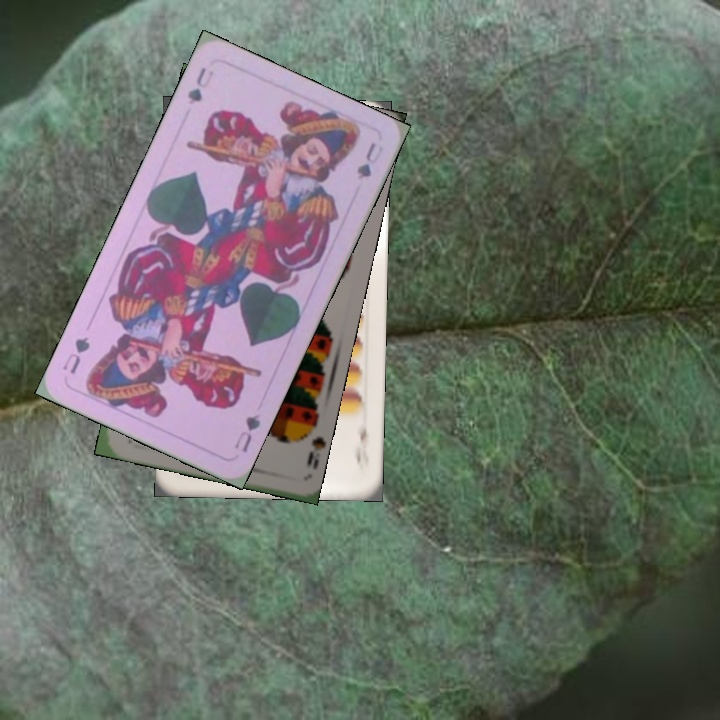E9: (352, 416, 371, 472)
GU: (183, 63, 217, 107), (230, 410, 263, 455)
S9: (295, 417, 324, 472)
